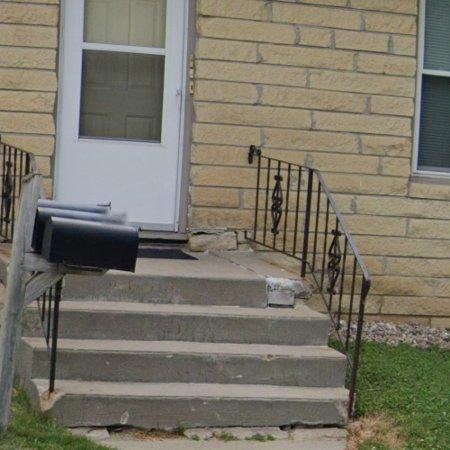stairs: (17, 255, 349, 429)
